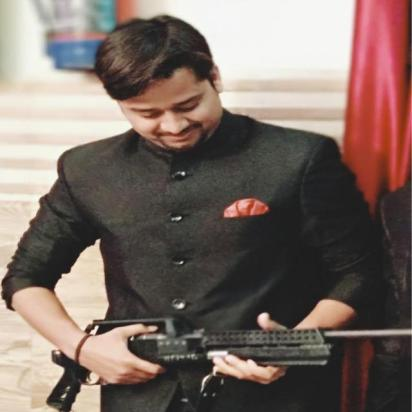Gun: (44, 313, 412, 412)
